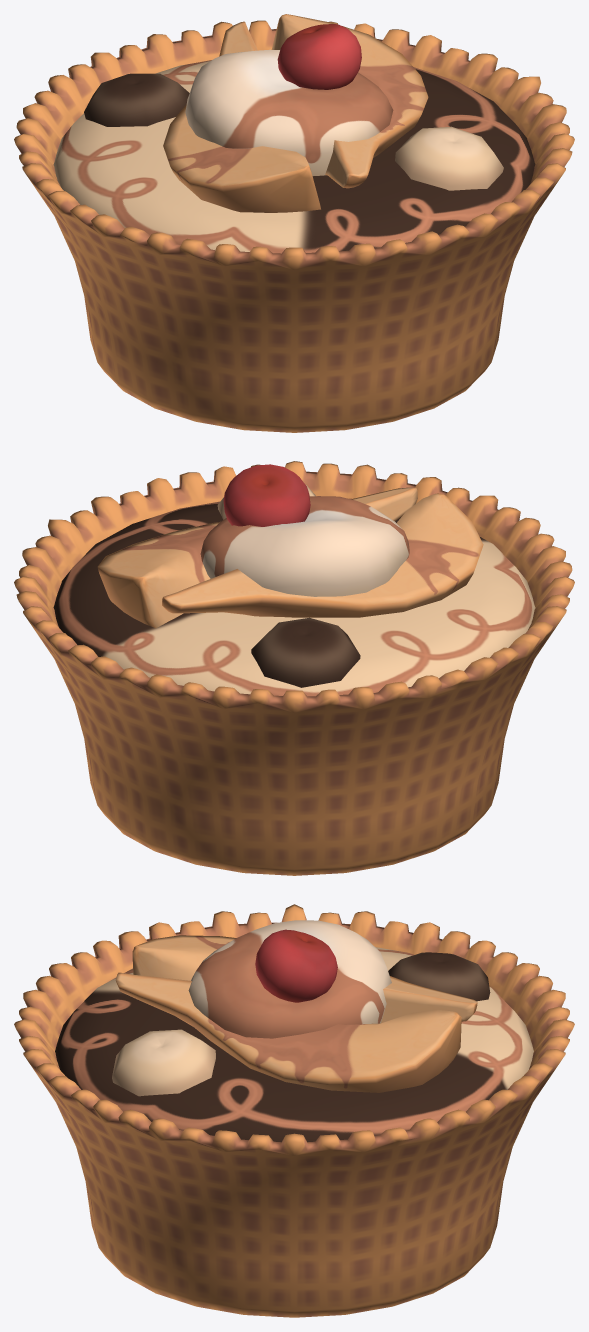
Rendered from dessert_pear_4.fbx.
3 views of the same model, one above another, from view 1: azimuth 30°, elevation 25°; view 2: azimuth 150°, elevation 25°; view 3: azimuth 270°, elevation 25° (orthographic).
Parts seen in each view (by area): view 1: dessert_milk_&_chocolate; view 2: dessert_milk_&_chocolate; view 3: dessert_milk_&_chocolate.
Part boxes in pixels (x1,y1,x2,y2): dessert_milk_&_chocolate: (14,14,574,432); dessert_milk_&_chocolate: (14,461,574,875); dessert_milk_&_chocolate: (14,904,574,1317).
Bounding box in the file's own units: 14.4 × 8.83 × 14.36.
